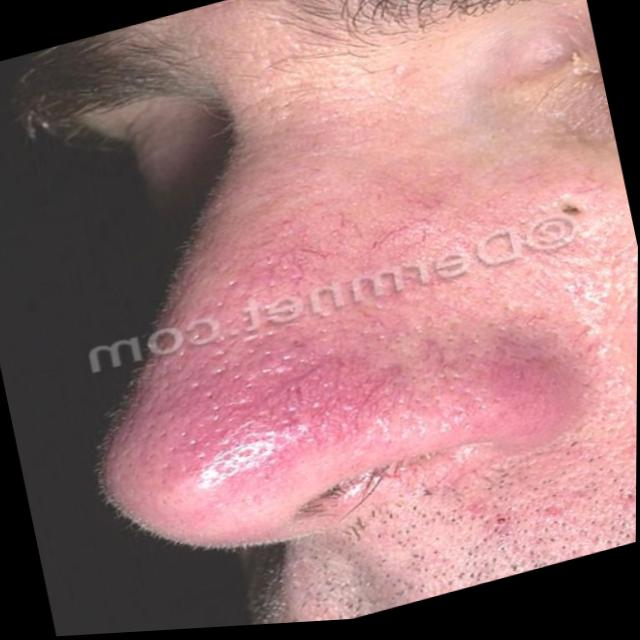Rosacea: (110, 136, 527, 517)
